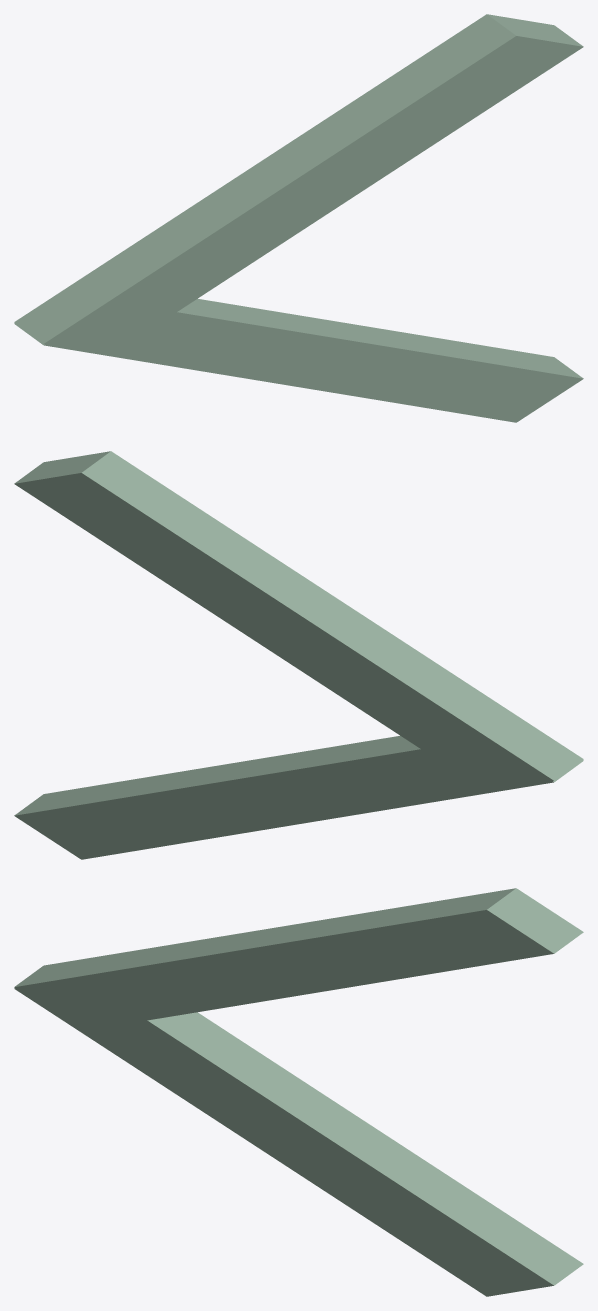
The model's file is Arrow.fbx.
3 renders of one model, top to bottom at view 1: azimuth 30°, elevation 25°; view 2: azimuth 150°, elevation 25°; view 3: azimuth 330°, elevation 25°, orthographic.
Visible parts, largest first — view 1: Cube, Cube__1_; view 2: Cube, Cube__1_; view 3: Cube__1_, Cube.
Part boxes in pixels (<box>): Cube: <box>14,14,583,354</box>; Cube__1_: <box>14,298,583,422</box>; Cube: <box>14,451,583,790</box>; Cube__1_: <box>14,735,583,859</box>; Cube__1_: <box>14,981,583,1296</box>; Cube: <box>14,888,583,1031</box>.
Size of the model in its own units: 15445 by 10569 by 1467.
